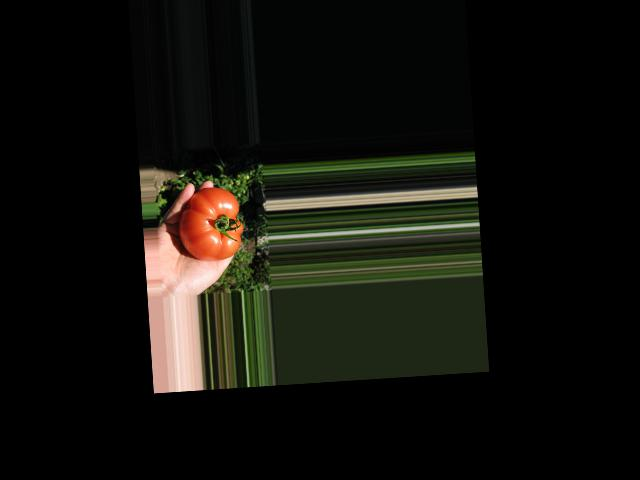tomato: (176, 185, 245, 262)
